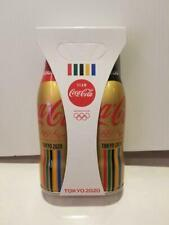metal: (98, 80, 125, 192)
